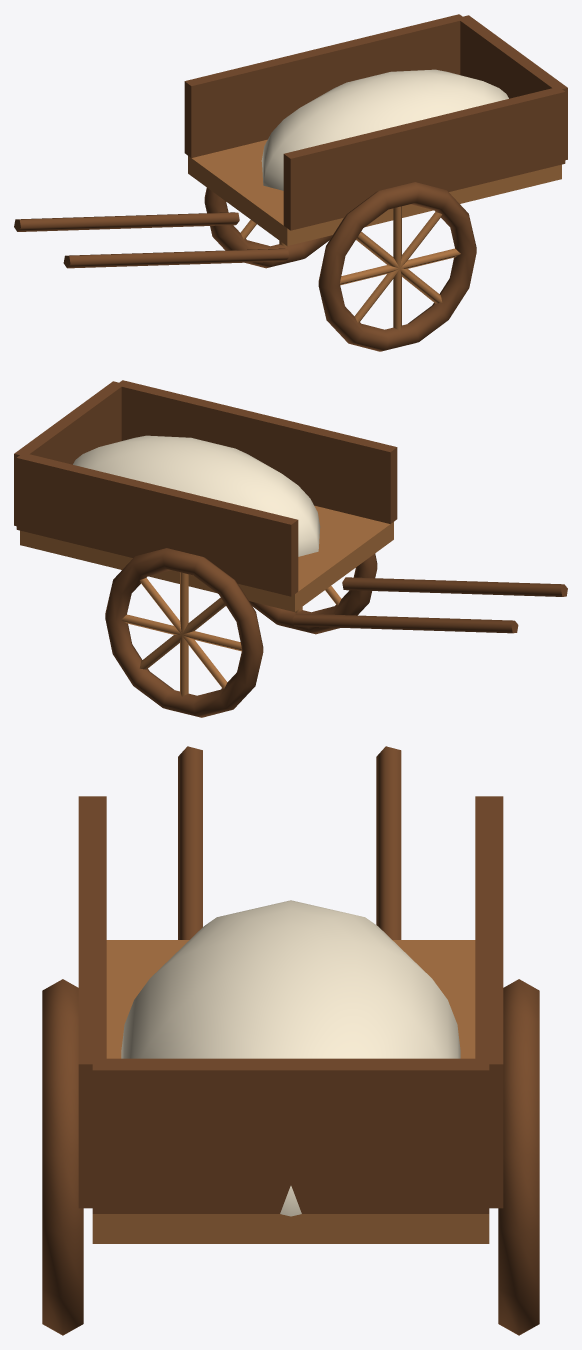
The model's file is Cart.glb.
3 views of the same model, one above another, from view 1: azimuth 30°, elevation 25°; view 2: azimuth 150°, elevation 25°; view 3: azimuth 270°, elevation 25° (orthographic). The views are drawn at different scales.
Parts seen in each view (by area): view 1: Body; view 2: Body; view 3: Body.
Part boxes in pixels (bbox=[...]): Body: bbox=[14, 14, 567, 351]; Body: bbox=[14, 380, 567, 717]; Body: bbox=[42, 746, 539, 1335].
Size of the model in its own units: 5.59 by 2.35 by 2.51.
1 material, 1 textured.
